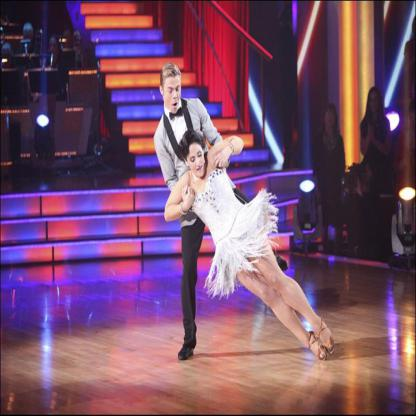face: (163, 76, 183, 114), (188, 145, 205, 177), (371, 93, 380, 115), (326, 109, 336, 128), (50, 41, 58, 58)
